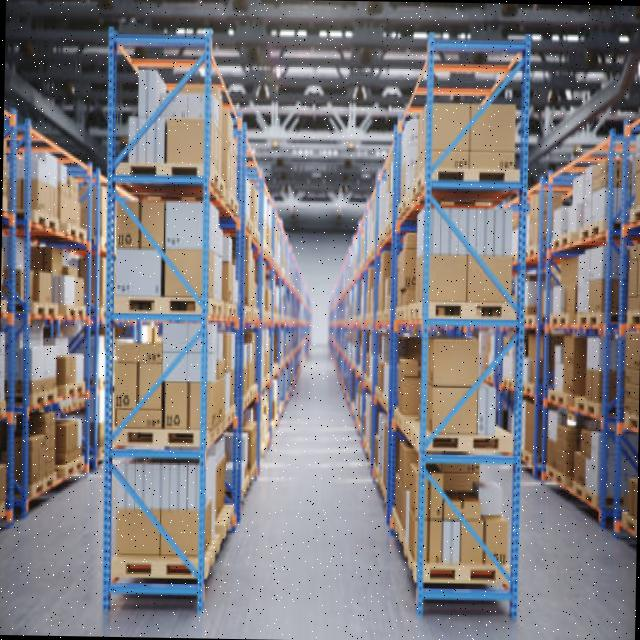Wooden-Pallets: (109, 288, 206, 320), (114, 549, 196, 586), (118, 420, 198, 454), (423, 556, 506, 587), (430, 294, 510, 320), (430, 432, 510, 458), (438, 164, 518, 186), (128, 162, 203, 180)
